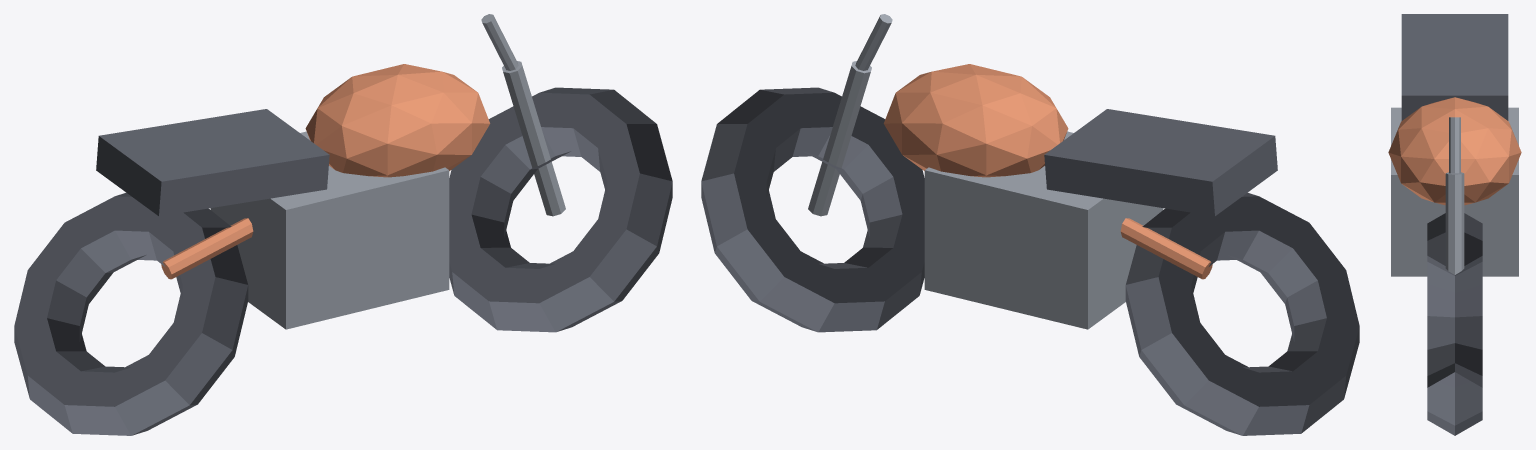
3 views of the same model, side by side, from view 1: azimuth 30°, elevation 25°; view 2: azimuth 150°, elevation 25°; view 3: azimuth 270°, elevation 25° (orthographic). The views are drawn at different scales.
Visible parts, largest first — view 1: Wheel.F, Wheel.B, Engine, Seat, Tank, Fork, Frame, Handle; view 2: Wheel.F, Wheel.B, Engine, Seat, Tank, Fork, Frame, Handle; view 3: Wheel.F, Seat, Tank, Engine, Fork, Handle.
Part boxes in pixels (x1,y1,x2,y2): Wheel.F: (449, 87, 672, 332); Wheel.B: (14, 192, 248, 435); Engine: (210, 131, 449, 329); Seat: (96, 109, 329, 216); Tank: (305, 64, 490, 177); Fork: (502, 61, 565, 216); Frame: (161, 218, 253, 279); Handle: (481, 14, 518, 70); Wheel.F: (701, 87, 924, 332); Wheel.B: (1125, 192, 1359, 435); Engine: (924, 131, 1163, 329); Seat: (1044, 109, 1277, 216); Tank: (883, 64, 1068, 177); Fork: (808, 61, 871, 216); Frame: (1120, 218, 1212, 279); Handle: (855, 14, 892, 70); Wheel.F: (1427, 213, 1482, 435); Seat: (1401, 14, 1508, 120); Tank: (1388, 97, 1521, 205); Engine: (1391, 107, 1518, 276); Fork: (1445, 172, 1464, 274); Handle: (1449, 117, 1460, 173).
Bounding box in the file's own units: 2.42 × 1.17 × 0.5.
